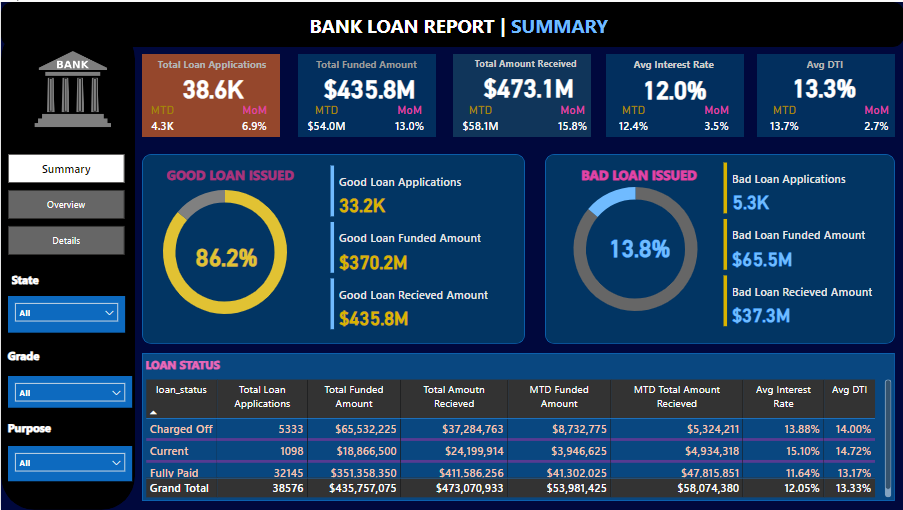

This screenshot's page, from the dashboard's own definition file:
{"tool":"powerbi","page":{"name":"Summary","canvas":[1280,720],"ordinal":0},"visuals":[{"type":"shape","box":[0,32.6,189.9,687.4],"z":0},{"type":"shape","box":[199.8,73.7,195.6,117.6],"z":1000},{"type":"shape","box":[640.6,73.7,195.6,117.6],"z":2000},{"type":"shape","box":[0,0,1280,63.8],"z":3000},{"type":"textbox","box":[432.3,9.9,620.8,87.9],"z":4000},{"type":"card","fields":{"Values":["Bank_Loan_Data.Total Loan Applications"]},"box":[199.8,85,201.3,72.3],"z":5000},{"type":"textbox","box":[216.9,73.7,181.4,53.9],"z":6000},{"type":"card","title":"MTD","fields":{"Values":["Bank_Loan_Data.MTD Loan Applications"]},"box":[189.9,143.1,78,48.2],"z":7000},{"type":"card","title":"MoM","fields":{"Values":["Bank_Loan_Data.MoM Loan Applicaions"]},"box":[320.3,143.1,78,48.2],"z":8000},{"type":"shape","box":[420.9,73.7,195.6,117.6],"z":9000},{"type":"card","title":"MTD","fields":{"Values":["Bank_Loan_Data.MTD Funded Amount"]},"box":[422.4,143.1,78,48.2],"z":10000},{"type":"card","title":"MoM","fields":{"Values":["Bank_Loan_Data.MoM Total Funded Amount"]},"box":[540,143.1,78,48.2],"z":11000},{"type":"card","fields":{"Values":["Bank_Loan_Data.Total Funded Amount"]},"box":[378.4,85,287.7,72.3],"z":12000},{"type":"textbox","box":[432.3,73.7,171.5,59.5],"z":13000},{"type":"shape","box":[640.6,73.7,195.6,117.6],"z":14000},{"type":"shape","box":[857.5,73.7,195.6,117.6],"z":15000},{"type":"shape","box":[1071.5,73.7,195.6,117.6],"z":16000},{"type":"card","fields":{"Values":["Bank_Loan_Data.Total Amoutn Recieved"]},"box":[603.8,89.3,287.7,59.5],"z":17000},{"type":"card","fields":{"Values":["Bank_Loan_Data.Avg Interest Rate"]},"box":[810.7,92.1,287.7,59.5],"z":18000},{"type":"card","fields":{"Values":["Bank_Loan_Data.Avg DTI"]},"box":[1053.1,89.3,226.8,59.5],"z":19000},{"type":"card","title":"MTD","fields":{"Values":["Bank_Loan_Data.MTD Avg DTI"]},"box":[1071.5,143.1,78,48.2],"z":20000},{"type":"card","title":"MTD","fields":{"Values":["Bank_Loan_Data.MTD Avg Interest Rate"]},"box":[857.5,143.1,78,48.2],"z":21000},{"type":"card","title":"MTD","fields":{"Values":["Bank_Loan_Data.MTD Total Amount Recieved"]},"box":[640.6,143.1,78,48.2],"z":22000},{"type":"card","title":"MoM","fields":{"Values":["Bank_Loan_Data.MoM Total Amount Recieved"]},"box":[771,143.1,78,48.2],"z":23000},{"type":"card","title":"MoM","fields":{"Values":["Bank_Loan_Data.MoM Avg Interest Rate"]},"box":[975.1,143.1,78,48.2],"z":24000},{"type":"card","title":"MoM","fields":{"Values":["Bank_Loan_Data.MoM Avg DTI"]},"box":[1201.9,143.1,78,48.2],"z":25000},{"type":"textbox","box":[666.1,73.7,175.7,59.5],"z":26000},{"type":"textbox","box":[891.5,73.7,180,29.8],"z":27000},{"type":"textbox","box":[1136.7,73.7,130.4,228.2],"z":28000},{"type":"shape","box":[199.8,215.4,542.8,269.3],"z":29000},{"type":"shape","box":[771,215.4,496.1,269.3],"z":30000},{"type":"donutChart","fields":{"Category":["Bank_Loan_Data.Good vs Bad Loan"],"Y":["Bank_Loan_Data.Total Loan Applications"]},"box":[154.5,239.5,326,229.6],"z":31000},{"type":"card","fields":{"Values":["Bank_Loan_Data.Good Loan Percentage"]},"box":[134.6,330.2,369.9,59.5],"z":32000},{"type":"textbox","box":[229.6,226.8,250.9,36.9],"z":33000},{"type":"cardVisual","fields":{"Data":["Bank_Loan_Data.Good Loan Applications","Bank_Loan_Data.Good Loan Funded Amount","Bank_Loan_Data.Good Loan Recieved Amount"]},"box":[462,226.8,266.5,242.4],"z":34000},{"type":"donutChart","fields":{"Category":["Bank_Loan_Data.Good vs Bad Loan"],"Y":["Bank_Loan_Data.Total Loan Applications"]},"box":[718.6,235.3,361.4,229.6],"z":35000},{"type":"textbox","box":[771,226.8,266.5,36.9],"z":36000},{"type":"shape","box":[199.8,497.5,1067.2,209.8],"z":37000},{"type":"card","fields":{"Values":["Bank_Loan_Data.Bad Loan Percentage"]},"box":[708.7,317.5,392.6,59.5],"z":38000},{"type":"cardVisual","fields":{"Data":["Bank_Loan_Data.Bad Loan Applications","Bank_Loan_Data.Bad Loan Funded Amount","Bank_Loan_Data.Good Loan Recieved Amount"]},"box":[1019.1,222.5,235.3,242.4],"z":39000},{"type":"tableEx","fields":{"Values":["Bank_Loan_Data.loan_status","Bank_Loan_Data.Total Loan Applications","Bank_Loan_Data.Total Funded Amount","Bank_Loan_Data.Total Amoutn Recieved","Bank_Loan_Data.MTD Funded Amount","Bank_Loan_Data.MTD Total Amount Recieved","Bank_Loan_Data.Avg Interest Rate","Bank_Loan_Data.Avg DTI"]},"box":[199.8,530.1,1067.2,177.2],"z":40000},{"type":"textbox","box":[199.8,497.5,1067.2,32.6],"z":41000},{"type":"slicer","fields":{"Values":["Bank_Loan_Data.address_state"]},"box":[9.9,416.7,165.8,52.4],"z":42000},{"type":"slicer","fields":{"Values":["Bank_Loan_Data.grade"]},"box":[9.9,530.1,175.7,45.4],"z":43000},{"type":"slicer","fields":{"Values":["Bank_Loan_Data.purpose"]},"box":[9.9,629.3,175.7,49.6],"z":44000},{"type":"textbox","box":[9.9,377,56.7,39.7],"z":45000},{"type":"textbox","box":[0,586.8,95,32.6],"z":46000},{"type":"textbox","box":[0,484.7,185.7,45.4],"z":47000},{"type":"pageNavigator","box":[9.9,215.4,165.8,144.6],"z":48000},{"type":"image","box":[2.8,63.8,197,119.1],"z":49000}]}

Visuals, with their boxes in screenshot pixels (x1, y1, x2, y2), scaled from the page's 1280x720 canvas onto the 903x510 screenshot:
shape: locate(0, 23, 134, 509)
shape: locate(141, 52, 279, 136)
shape: locate(452, 52, 590, 136)
shape: locate(0, 0, 902, 45)
textbox: locate(305, 7, 743, 69)
card - Bank_Loan_Data.Total Loan Applications: locate(141, 60, 283, 111)
textbox: locate(153, 52, 281, 90)
"MTD" card: locate(134, 101, 189, 136)
"MoM" card: locate(226, 101, 281, 136)
shape: locate(297, 52, 435, 136)
"MTD" card: locate(298, 101, 353, 136)
"MoM" card: locate(381, 101, 436, 136)
card - Bank_Loan_Data.Total Funded Amount: locate(267, 60, 470, 111)
textbox: locate(305, 52, 426, 94)
shape: locate(452, 52, 590, 136)
shape: locate(605, 52, 743, 136)
shape: locate(756, 52, 894, 136)
card - Bank_Loan_Data.Total Amoutn Recieved: locate(426, 63, 629, 105)
card - Bank_Loan_Data.Avg Interest Rate: locate(572, 65, 775, 107)
card - Bank_Loan_Data.Avg DTI: locate(743, 63, 902, 105)
"MTD" card: locate(756, 101, 811, 136)
"MTD" card: locate(605, 101, 660, 136)
"MTD" card: locate(452, 101, 507, 136)
"MoM" card: locate(544, 101, 599, 136)
"MoM" card: locate(688, 101, 743, 136)
"MoM" card: locate(848, 101, 902, 136)
textbox: locate(470, 52, 594, 94)
textbox: locate(629, 52, 756, 73)
textbox: locate(802, 52, 894, 214)
shape: locate(141, 153, 524, 343)
shape: locate(544, 153, 894, 343)
donutChart - Bank_Loan_Data.Good vs Bad Loan x Bank_Loan_Data.Total Loan Applications: locate(109, 170, 339, 332)
card - Bank_Loan_Data.Good Loan Percentage: locate(95, 234, 356, 276)
textbox: locate(162, 161, 339, 187)
cardVisual - Bank_Loan_Data.Good Loan Applications x Bank_Loan_Data.Good Loan Funded Amount: locate(326, 161, 514, 332)
donutChart - Bank_Loan_Data.Good vs Bad Loan x Bank_Loan_Data.Total Loan Applications: locate(507, 167, 762, 329)
textbox: locate(544, 161, 732, 187)
shape: locate(141, 352, 894, 501)
card - Bank_Loan_Data.Bad Loan Percentage: locate(500, 225, 777, 267)
cardVisual - Bank_Loan_Data.Bad Loan Applications x Bank_Loan_Data.Bad Loan Funded Amount: locate(719, 158, 885, 329)
tableEx - Bank_Loan_Data.loan_status x Bank_Loan_Data.Total Loan Applications: locate(141, 375, 894, 501)
textbox: locate(141, 352, 894, 375)
slicer - Bank_Loan_Data.address_state: locate(7, 295, 124, 332)
slicer - Bank_Loan_Data.grade: locate(7, 375, 131, 408)
slicer - Bank_Loan_Data.purpose: locate(7, 446, 131, 481)
textbox: locate(7, 267, 47, 295)
textbox: locate(0, 416, 67, 439)
textbox: locate(0, 343, 131, 375)
pageNavigator: locate(7, 153, 124, 255)
image: locate(2, 45, 141, 130)
